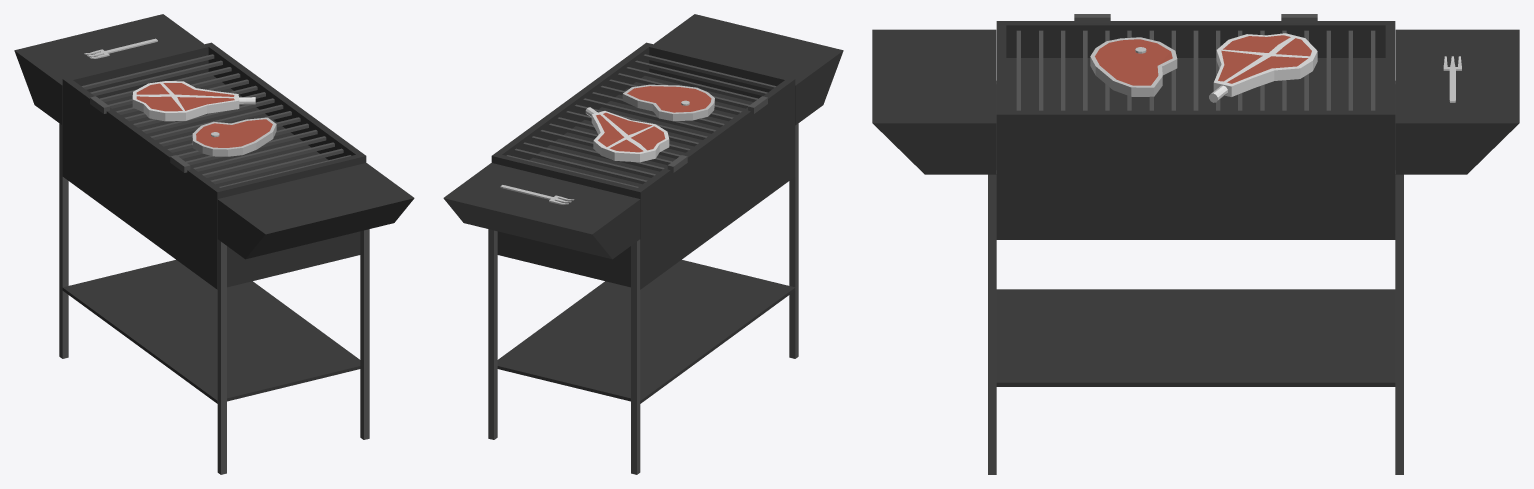
Rendered from Grill_01_01.fbx.
The picture shows the model from 3 angles, left to right: view 1: azimuth 30°, elevation 25°; view 2: azimuth 150°, elevation 25°; view 3: azimuth 270°, elevation 25°; orthographic projection. The views are drawn at different scales.
Parts seen in each view (by area): view 1: Grill_01_01; view 2: Grill_01_01; view 3: Grill_01_01.
Part boxes in pixels (left/top/right/bottom): Grill_01_01: left=14, top=14, right=414, bottom=474; Grill_01_01: left=443, top=14, right=843, bottom=474; Grill_01_01: left=872, top=14, right=1519, bottom=474.
Size of the model in its own units: 50.96 by 91.2 by 146.
